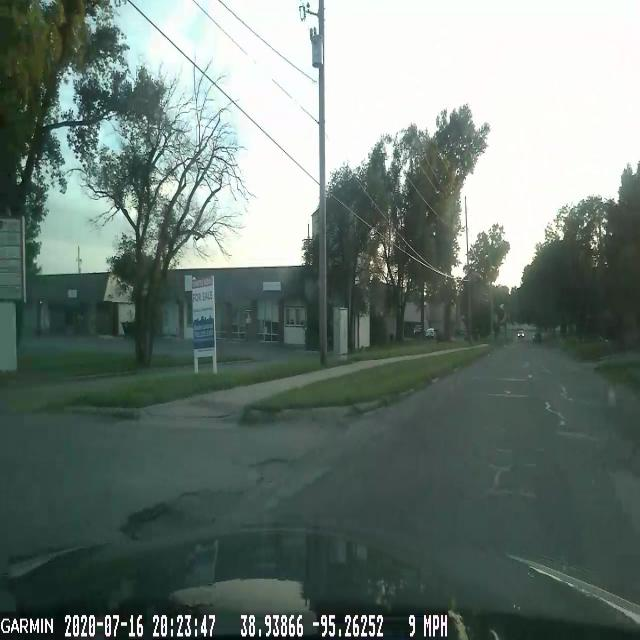Pothole: (111, 493, 201, 541), (247, 449, 293, 488)
